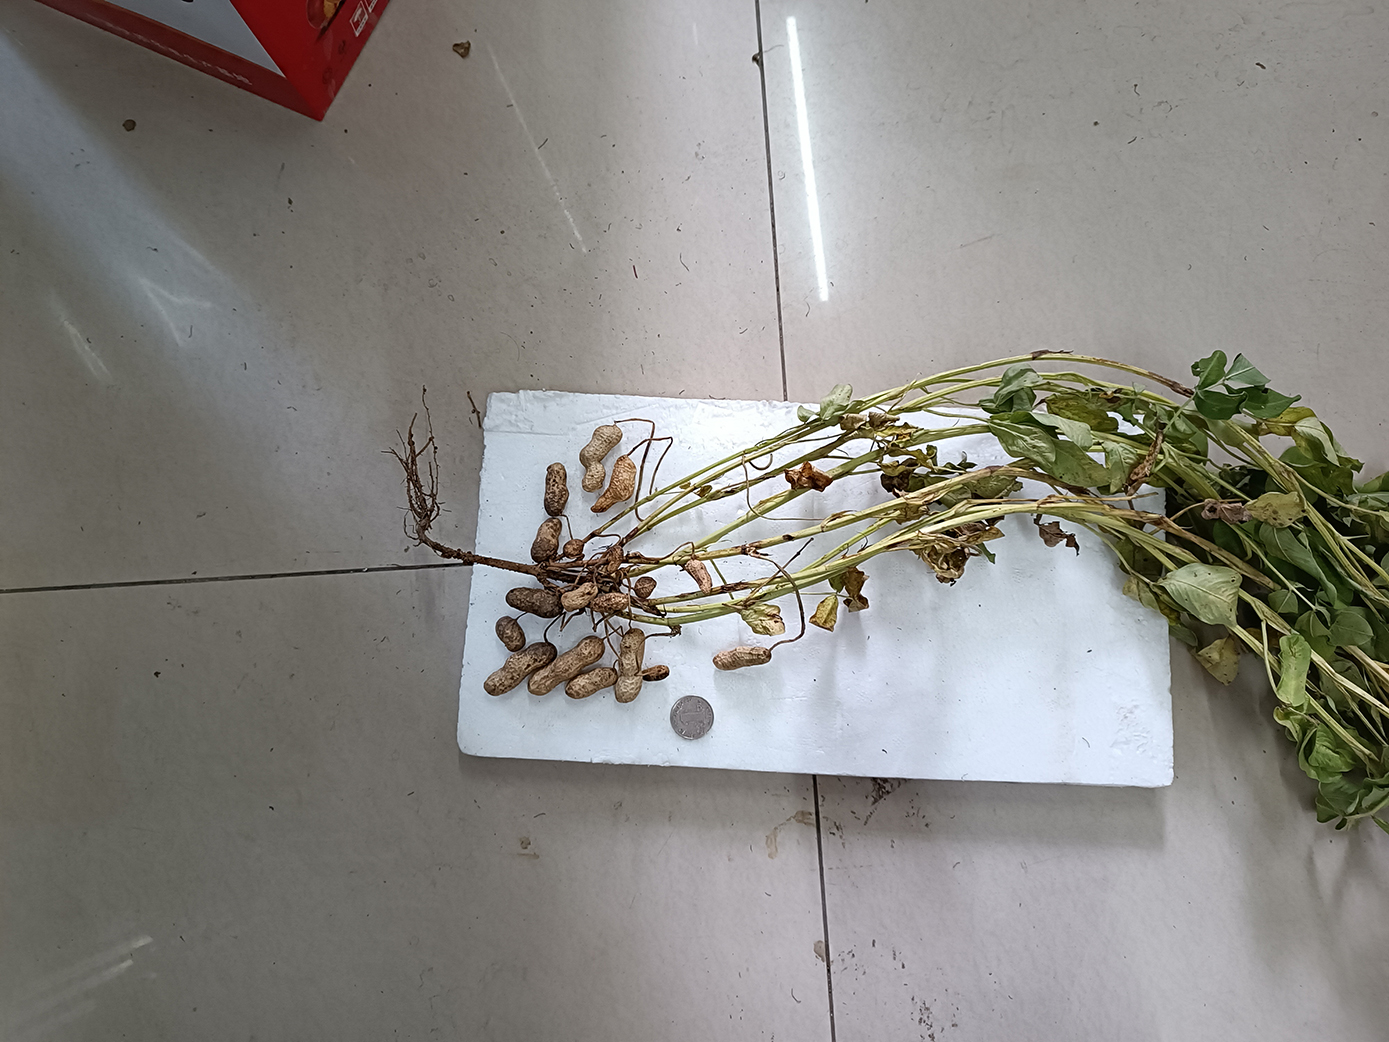h: (526, 636, 606, 695), (483, 641, 558, 698), (578, 422, 621, 493), (590, 456, 636, 512), (615, 629, 644, 703), (565, 665, 614, 701), (544, 463, 570, 516), (531, 518, 562, 563), (714, 648, 773, 671), (560, 580, 598, 612), (591, 592, 630, 615), (685, 560, 711, 594), (602, 545, 624, 575), (633, 576, 656, 600), (641, 665, 671, 681), (563, 540, 584, 557)
l: (503, 586, 562, 620), (495, 615, 526, 650)
